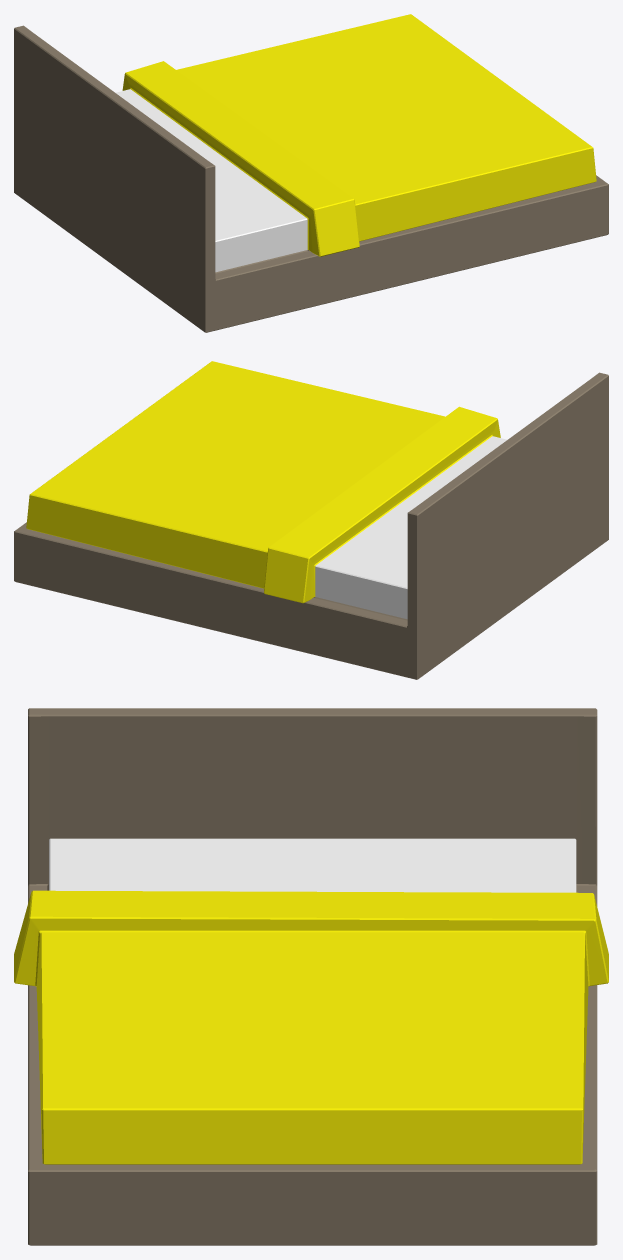
File: bed.fbx
The picture shows the model from 3 angles, top to bottom: view 1: azimuth 30°, elevation 25°; view 2: azimuth 150°, elevation 25°; view 3: azimuth 270°, elevation 25°; orthographic projection. The views are drawn at different scales.
Visible parts, largest first — view 1: pasted__pCube1; view 2: pasted__pCube1; view 3: pasted__pCube1.
Boxes of the visible parts, x1,y1,x2,y2 form: pasted__pCube1: (14,14,608,332); pasted__pCube1: (14,361,608,679); pasted__pCube1: (14,708,608,1245).
Size of the model in its own units: 4.79 by 1.88 by 4.12.
